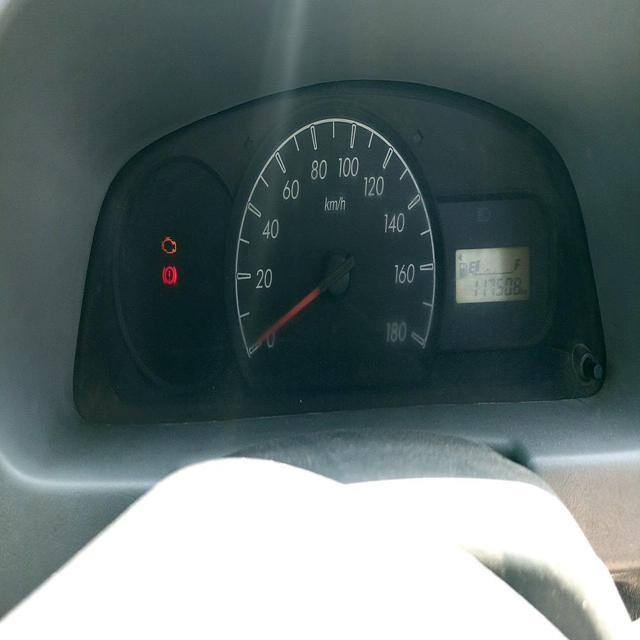odometer: (469, 272, 522, 302)
